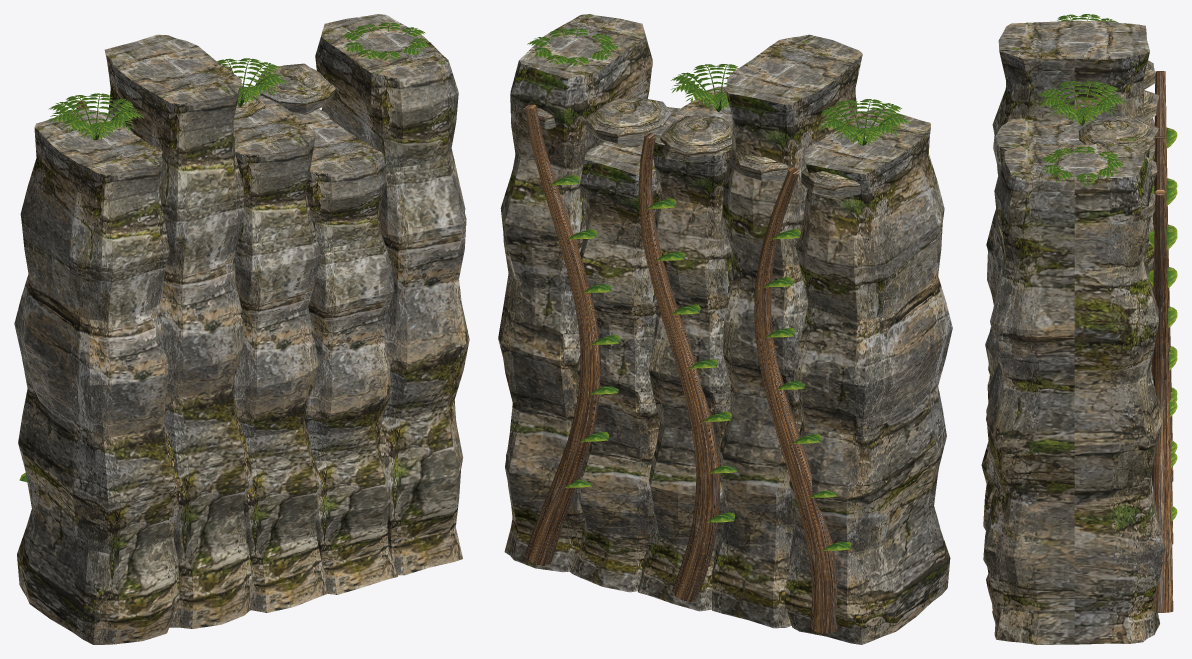
Rendered from RootCliffWall.fbx.
3 renders of one model, left to right at view 1: azimuth 30°, elevation 25°; view 2: azimuth 150°, elevation 25°; view 3: azimuth 270°, elevation 25°, orthographic. The views are drawn at different scales.
Visible parts, largest first — view 1: RootCliffWall_LOD0; view 2: RootCliffWall_LOD0; view 3: RootCliffWall_LOD0.
Part boxes in pixels (x1,y1,x2,y2): RootCliffWall_LOD0: (14, 14, 469, 644); RootCliffWall_LOD0: (498, 14, 952, 644); RootCliffWall_LOD0: (981, 14, 1177, 644).
Size of what is drawn, in the model's own units: 8.68 by 10.94 by 4.
